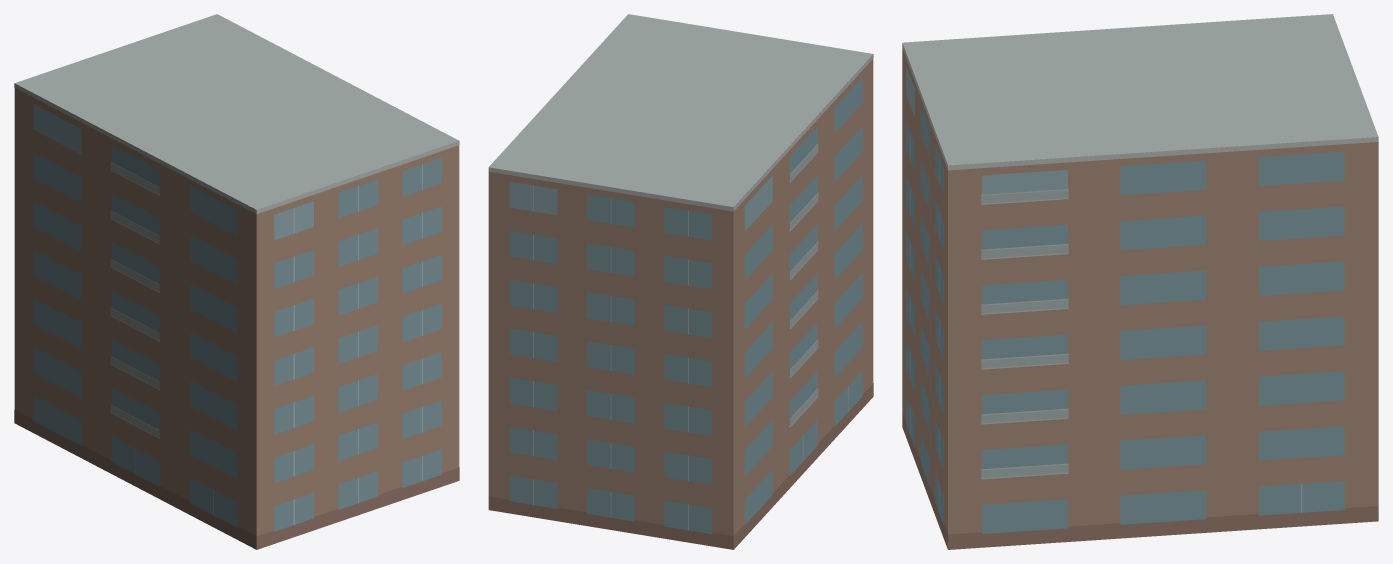
File: survey-upis-32702594.glb
3 views of the same model, side by side, from view 1: azimuth 30°, elevation 25°; view 2: azimuth 150°, elevation 25°; view 3: azimuth 270°, elevation 25° (orthographic). The views are drawn at different scales.
Parts seen in each view (by area): view 1: survey-upis-32702594.tmp; view 2: survey-upis-32702594.tmp; view 3: survey-upis-32702594.tmp.
Part boxes in pixels (box(x1,y1,x2,y2)): survey-upis-32702594.tmp: box(14, 14, 459, 549); survey-upis-32702594.tmp: box(488, 14, 873, 549); survey-upis-32702594.tmp: box(902, 14, 1378, 549).
Size of the model in its own units: 16.25 by 19.2 by 21.57.
